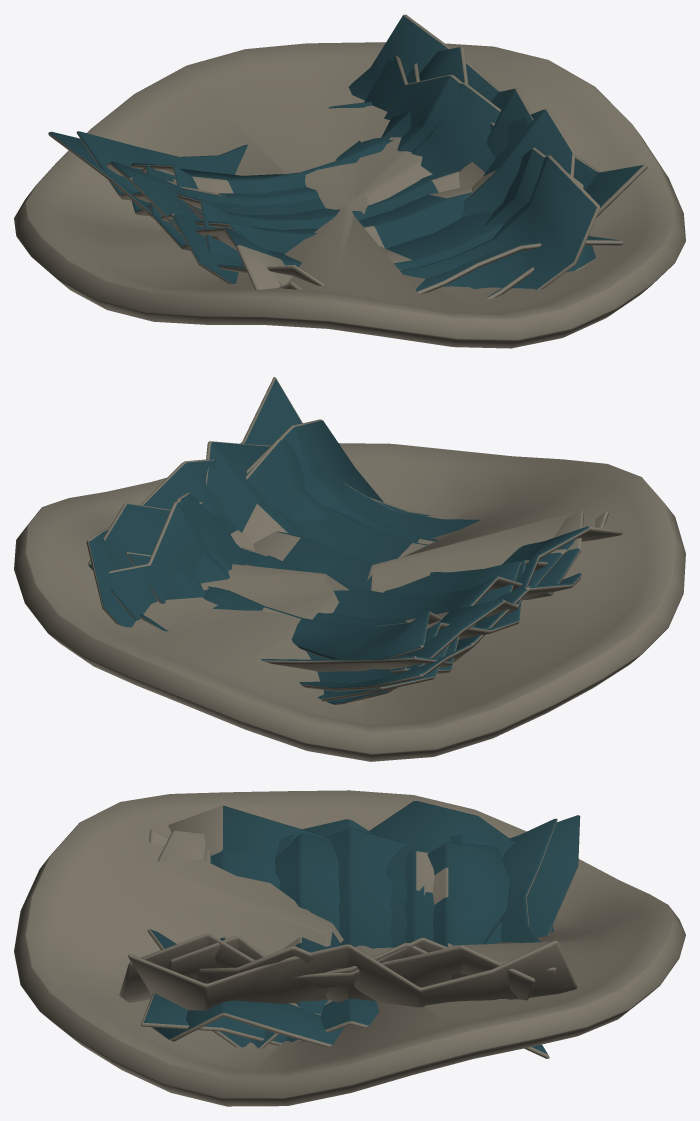
The model's file is fragments.glb.
3 views of the same model, one above another, from view 1: azimuth 30°, elevation 25°; view 2: azimuth 150°, elevation 25°; view 3: azimuth 270°, elevation 25° (orthographic).
Parts seen in each view (by area): view 1: BarrelLid, BarrelShard07, BarrelShard03, BarrelShard02, BarrelShard06, BarrelShard04, BarrelShard01, BarrelShard05; view 2: BarrelLid, BarrelShard07, BarrelShard04, BarrelShard02, BarrelShard03, BarrelShard05, BarrelShard06, BarrelShard01; view 3: BarrelLid, BarrelShard03, BarrelShard06, BarrelShard02, BarrelShard04, BarrelShard05, BarrelShard07, BarrelShard01.
Part boxes in pixels (left/top/right/bottom): BarrelLid: left=14, top=42, right=685, bottom=348; BarrelShard07: left=120, top=55, right=600, bottom=289; BarrelShard03: left=48, top=14, right=647, bottom=299; BarrelShard02: left=76, top=102, right=623, bottom=294; BarrelShard06: left=106, top=161, right=595, bottom=289; BarrelShard04: left=130, top=137, right=472, bottom=253; BarrelShard01: left=131, top=63, right=583, bottom=266; BarrelShard05: left=141, top=46, right=575, bottom=250; BarrelLid: left=14, top=443, right=685, bottom=761; BarrelShard07: left=108, top=419, right=575, bottom=701; BarrelShard04: left=202, top=531, right=521, bottom=659; BarrelShard02: left=140, top=483, right=583, bottom=671; BarrelShard03: left=86, top=377, right=608, bottom=691; BarrelShard05: left=88, top=441, right=547, bottom=702; BarrelShard06: left=293, top=505, right=623, bottom=704; BarrelShard01: left=126, top=437, right=567, bottom=673; BarrelLid: left=14, top=790, right=685, bottom=1106; BarrelShard03: left=128, top=815, right=580, bottom=1017; BarrelShard06: left=151, top=801, right=549, bottom=1058; BarrelShard02: left=140, top=818, right=557, bottom=1045; BarrelShard04: left=213, top=834, right=511, bottom=1048; BarrelShard05: left=196, top=834, right=535, bottom=1001; BarrelShard07: left=119, top=845, right=556, bottom=1002; BarrelShard01: left=169, top=846, right=506, bottom=1001.
Size of the model in its own units: 0.6669 by 0.1513 by 0.6669.
